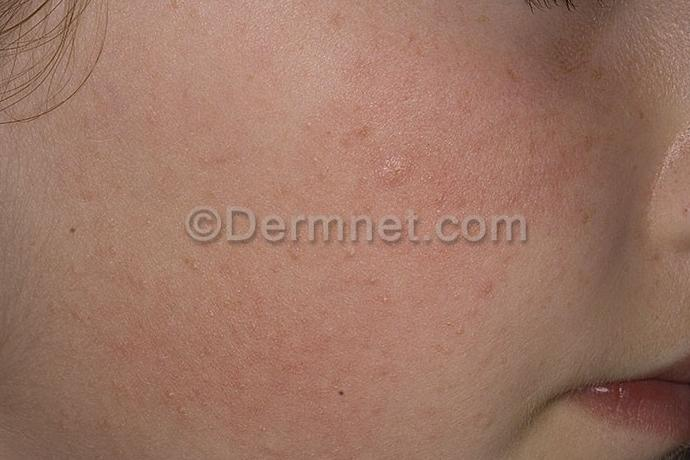edema 1: (181, 221, 528, 350), (361, 134, 433, 207)
eritema 1: (90, 43, 601, 460)
